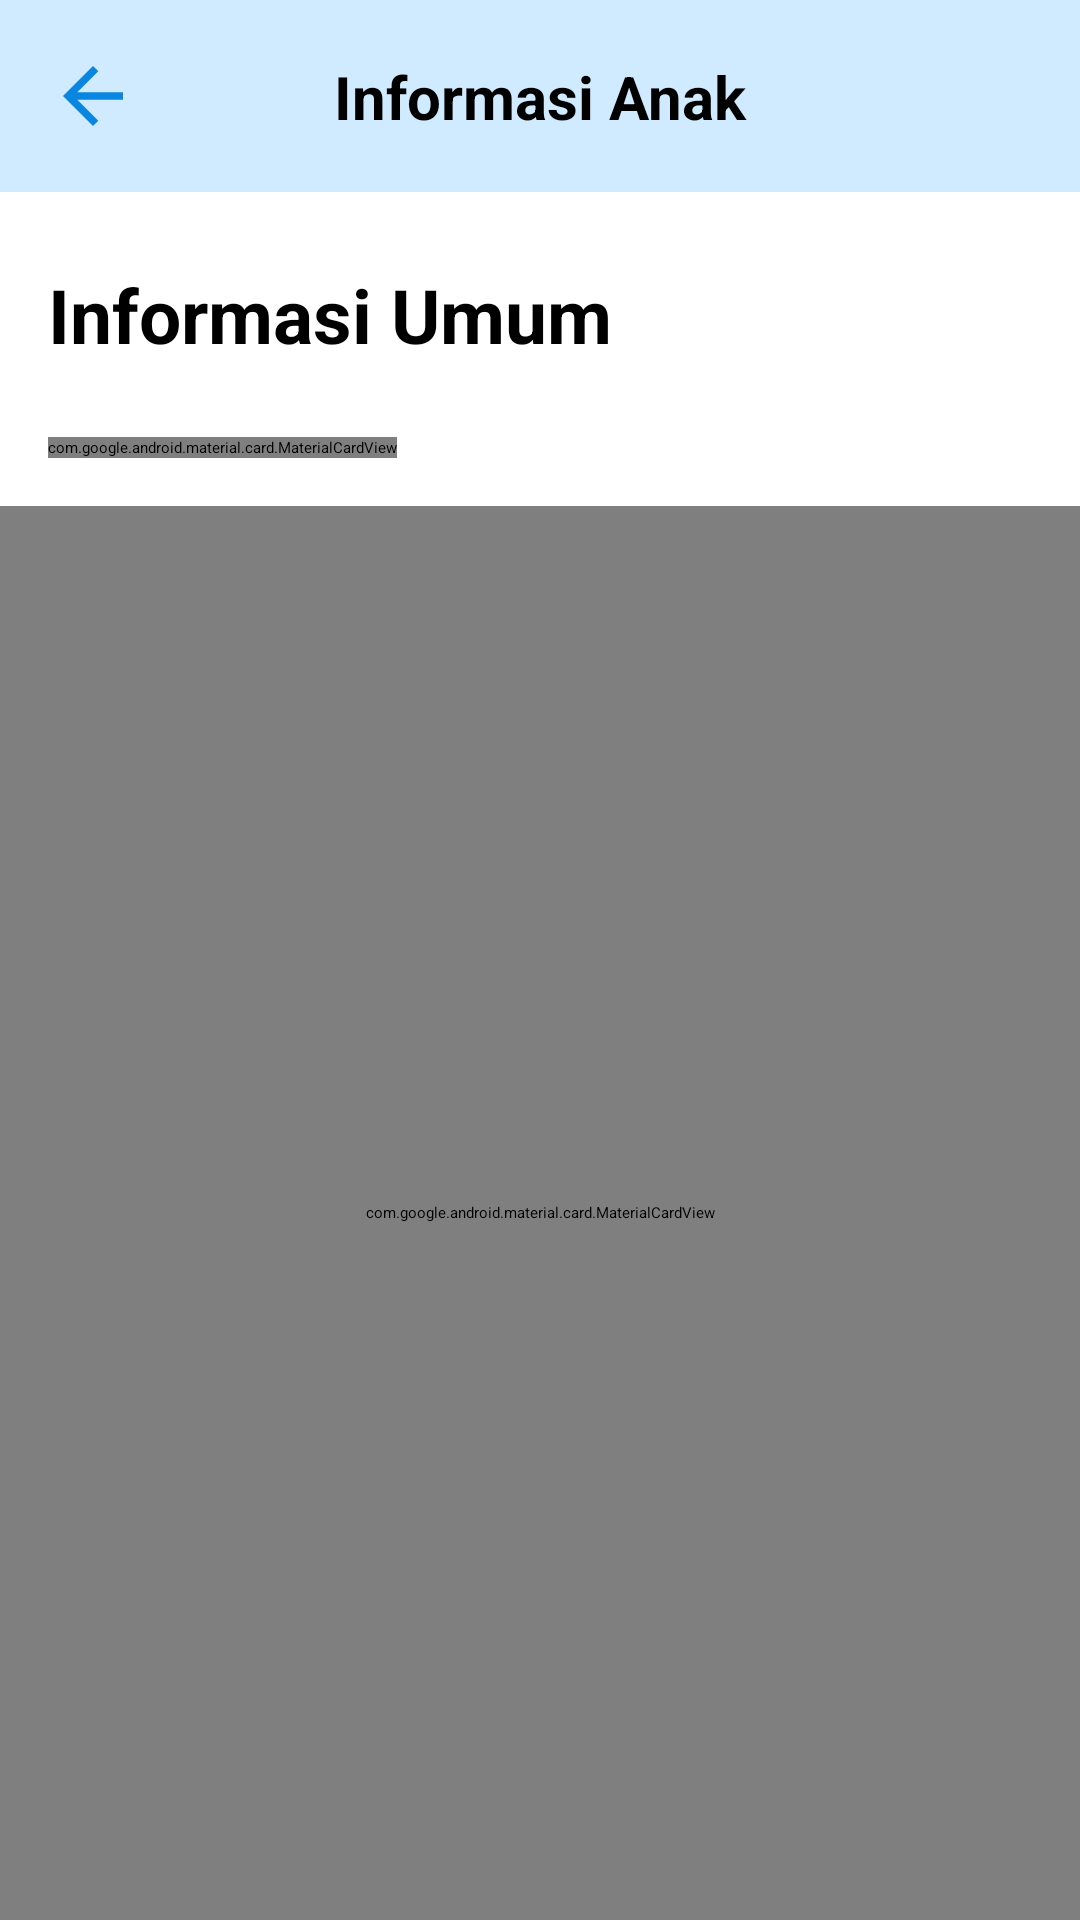

Named icons in this screenshot (1080px x 1920px) and their bounding boxes, detection(x1, y1, x2, y2):
arrow back: detection(63, 66, 123, 126)
